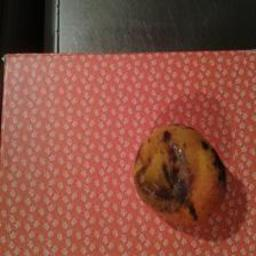Mango Rotten: (125, 116, 235, 232)
